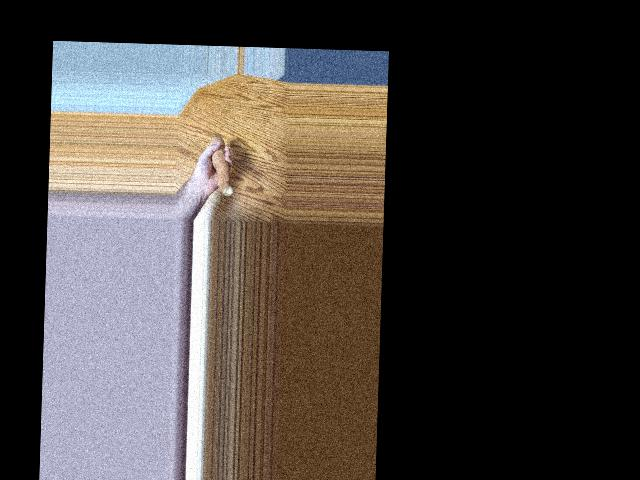sweet_potato: (205, 139, 231, 201)
